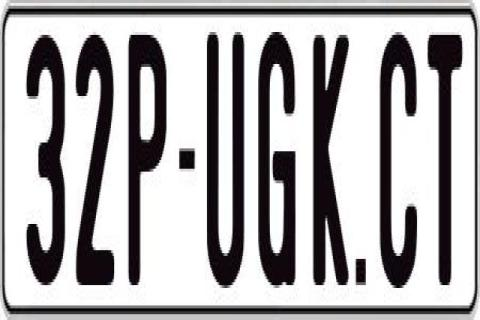0: (27, 26, 70, 282), (73, 35, 113, 303)
C: (376, 35, 420, 297)
G: (257, 23, 297, 285)
K: (314, 29, 356, 294)
P: (128, 27, 172, 286)
T: (426, 35, 466, 294)
U: (204, 27, 242, 286)
